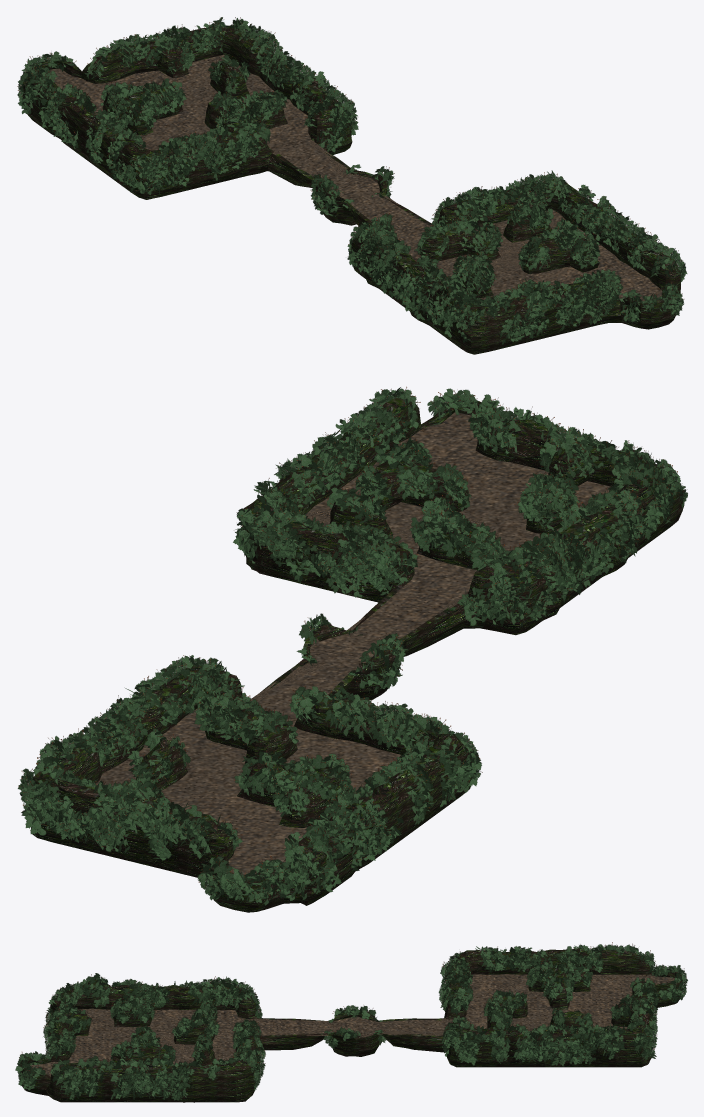
Rendered from buisson_colonly.glb.
3 views of the same model, one above another, from view 1: azimuth 30°, elevation 25°; view 2: azimuth 150°, elevation 25°; view 3: azimuth 270°, elevation 25° (orthographic). The views are drawn at different scales.
Visible parts, largest first — view 1: bloc, sol; view 2: bloc, sol; view 3: bloc, sol.
Boxes of the visible parts, x1,y1,x2,y2 form: bloc: (17,17,687,354); sol: (51,54,662,296); bloc: (18,386,687,912); sol: (208,423,589,796); bloc: (15,942,687,1102); sol: (98,975,674,1065).
Size of what is drawn, in the model's own units: 30.14 by 6.29 by 65.52.
3 materials, 3 textured.
